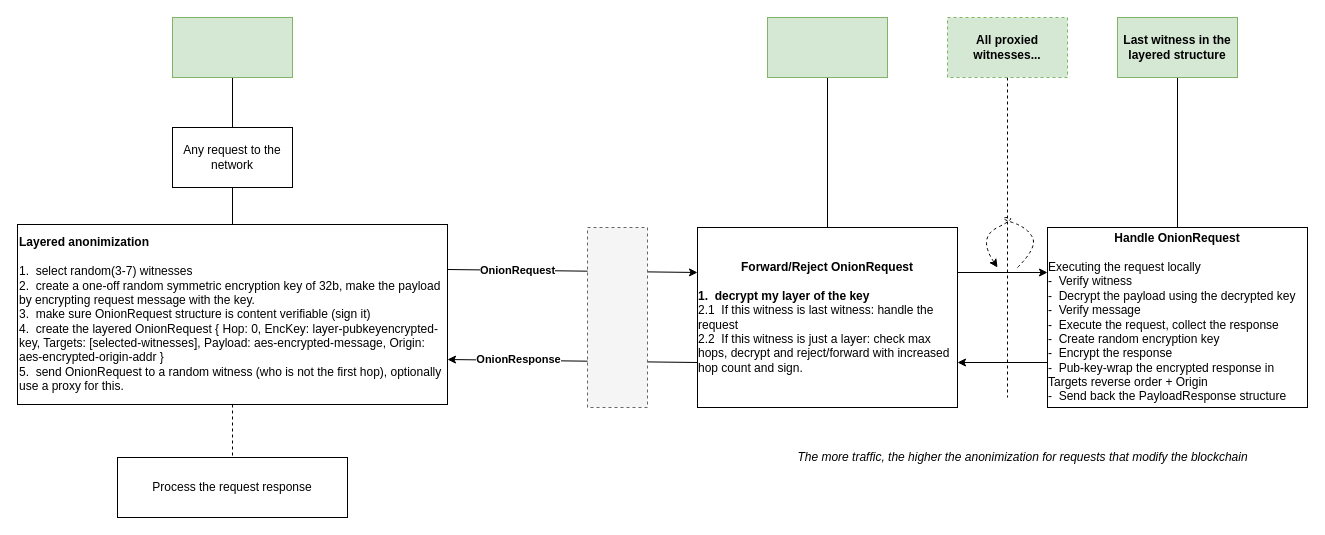
The diagram is 1325 pixels wide and 535 high, and some of its shapes have lost their labels. The shapes that lost their labels are listed below. From the top down, each one's centre as x and y in pixels, then its label:
At (232,47): "Wallet software - recent witness list".
At (827,47): "Witness".
At (617,317): "Optional Proxy Service TOR / Payed".
